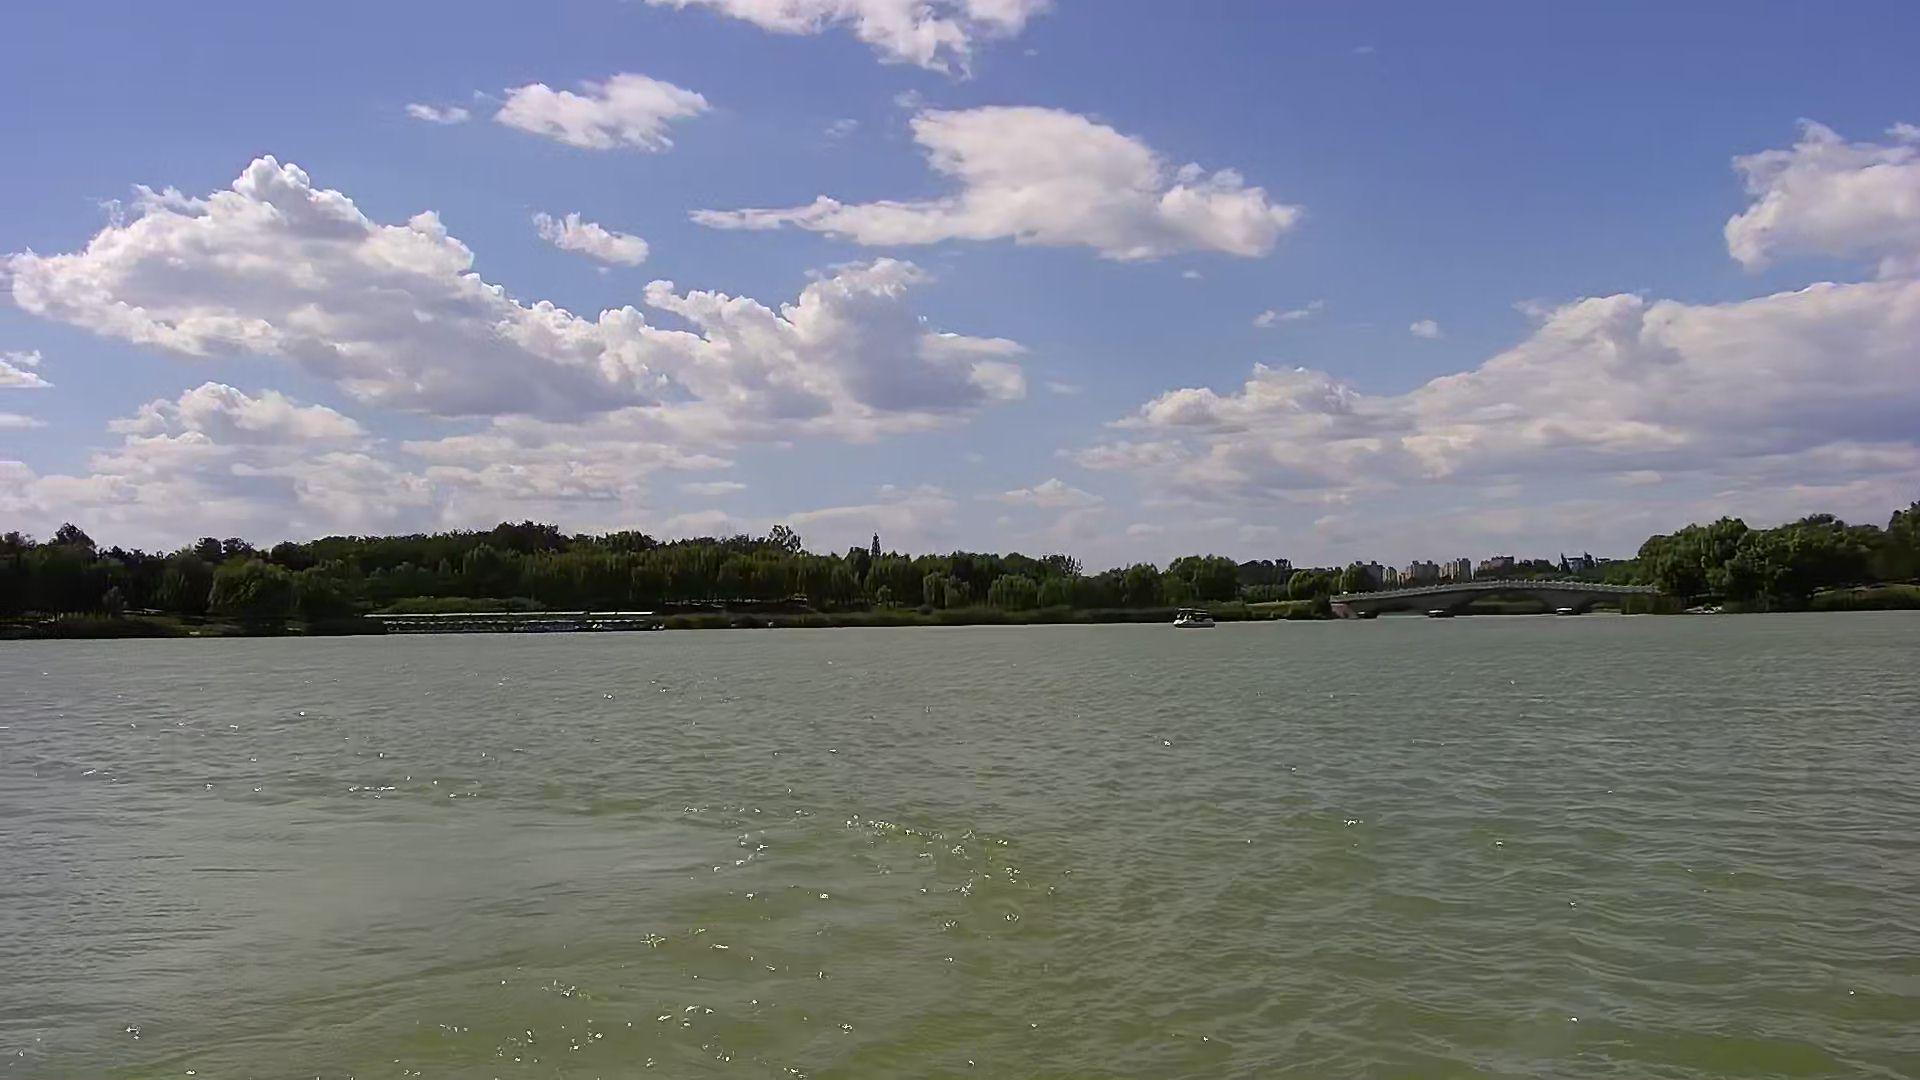boat: (1171, 604, 1225, 626)
bridge: (1331, 584, 1664, 626), (371, 611, 657, 632)
